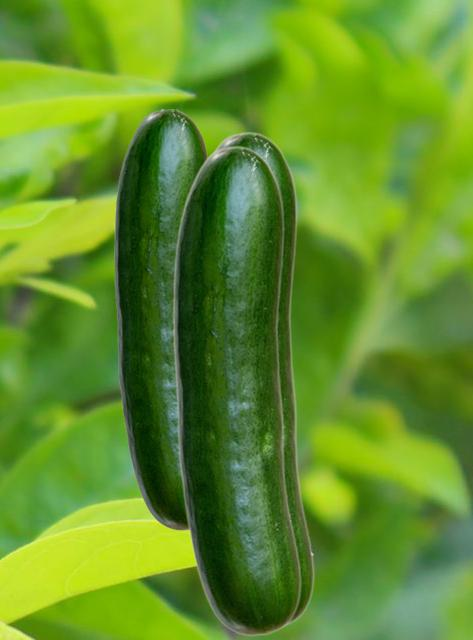cucumber: (172, 145, 300, 635), (211, 131, 313, 628), (114, 109, 208, 529)
